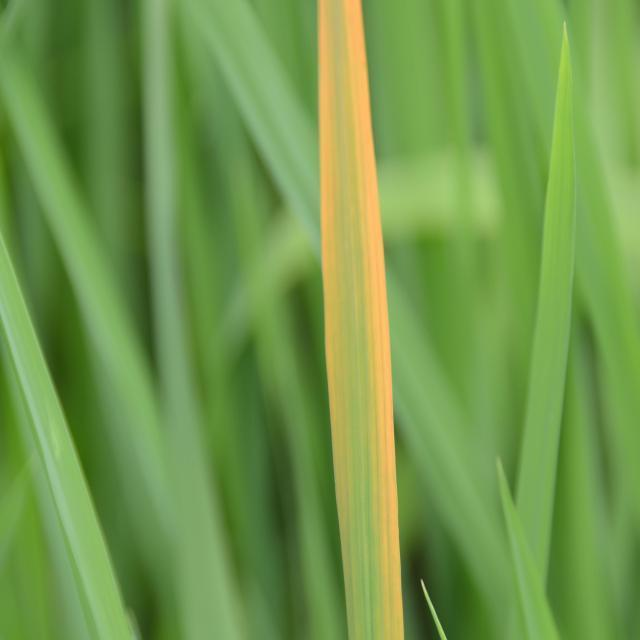Rice Tungro: (303, 12, 430, 627)
